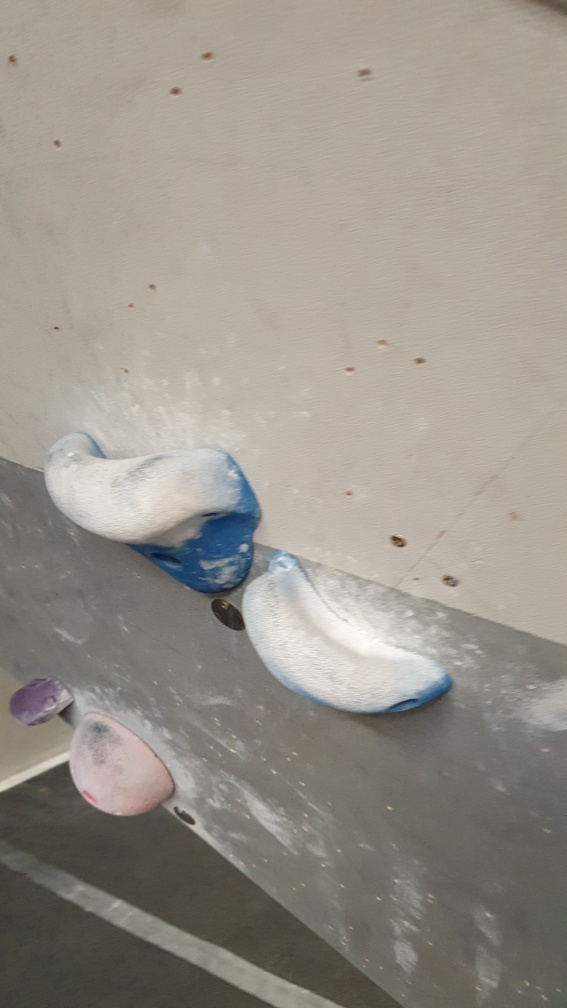Hand Start: (211, 591, 245, 637), (172, 802, 192, 824)
Jug: (42, 427, 260, 598), (235, 556, 450, 725)
Sloper: (68, 713, 176, 822)
